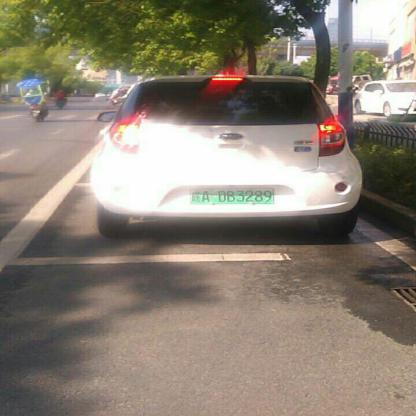lp: (189, 187, 273, 204)
